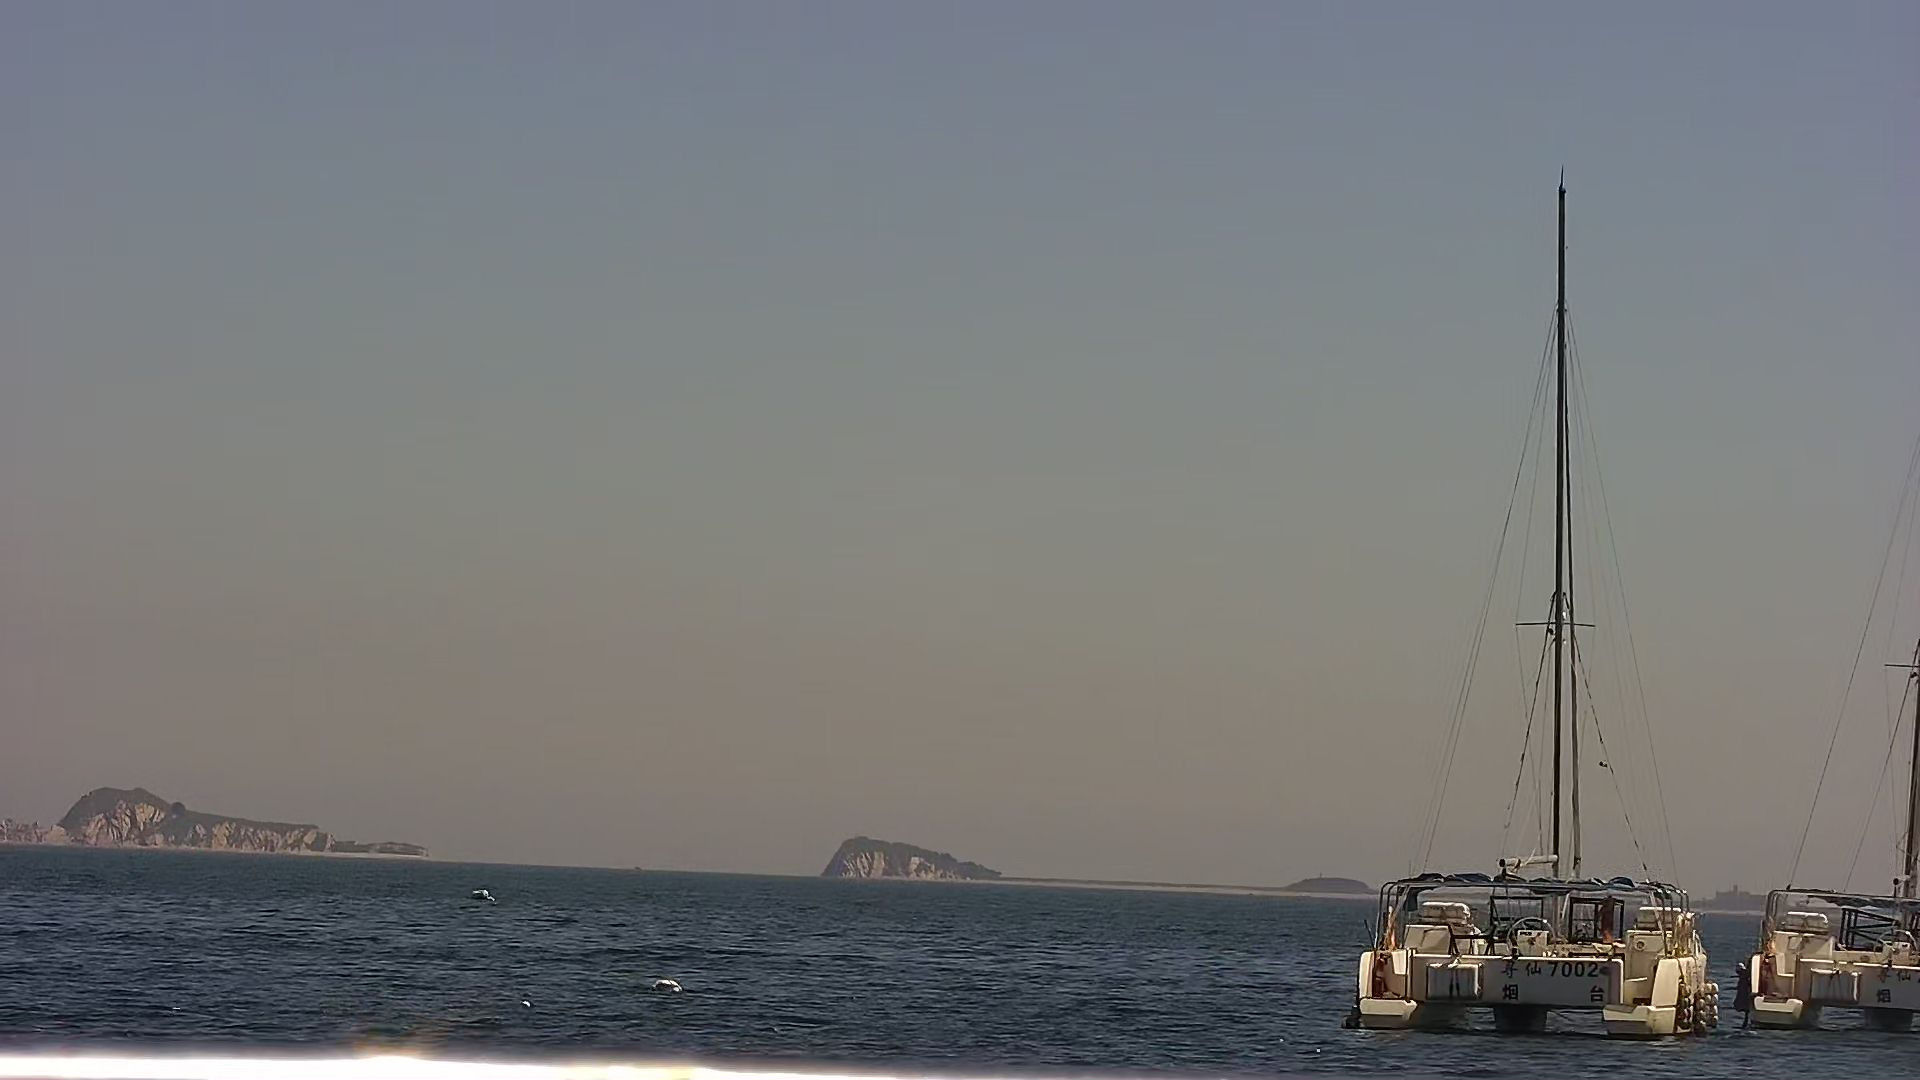boat: (1360, 191, 1722, 1034), (1734, 462, 1920, 1036)
rock: (3, 783, 435, 858), (814, 836, 1002, 878), (1291, 878, 1377, 895), (655, 977, 684, 1001), (469, 887, 495, 903)
